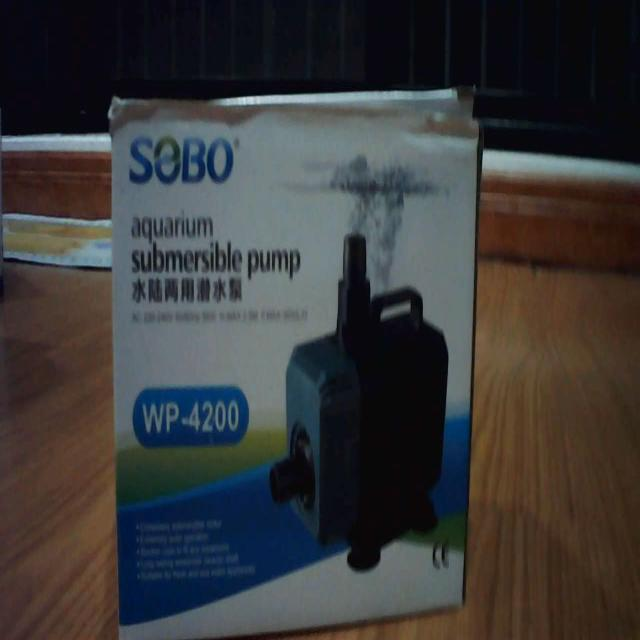SOBO_WP_4200: (96, 71, 488, 627)
